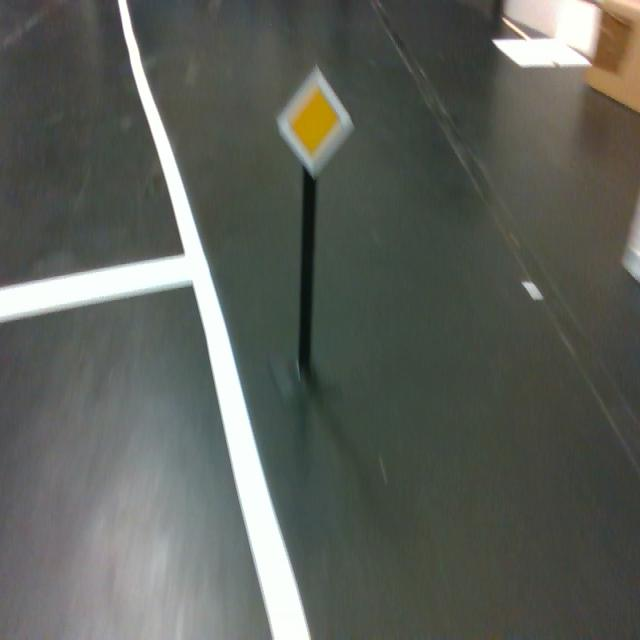priority-sign: (277, 63, 355, 179)
